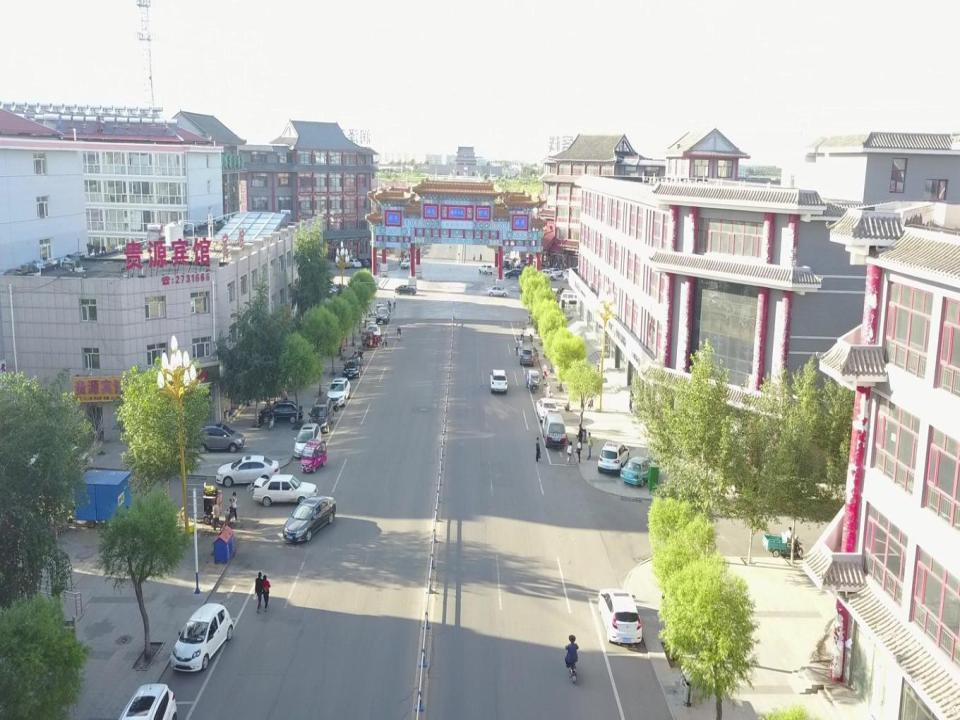car: (170, 602, 233, 672), (282, 495, 336, 543), (598, 588, 642, 644), (118, 681, 178, 720), (252, 472, 319, 506), (216, 454, 281, 487), (194, 420, 246, 452), (620, 456, 657, 488), (598, 440, 629, 476), (258, 400, 304, 424), (326, 375, 352, 406), (536, 397, 560, 422), (342, 355, 364, 378), (490, 367, 508, 394), (519, 345, 539, 366), (485, 286, 510, 298), (394, 284, 416, 296), (367, 324, 381, 342), (368, 304, 387, 317), (376, 307, 390, 324), (504, 268, 524, 279), (562, 273, 582, 284), (479, 263, 493, 275), (548, 267, 564, 277), (562, 267, 574, 278), (344, 258, 360, 266), (501, 260, 515, 269), (353, 257, 370, 264), (399, 258, 412, 267), (364, 258, 378, 266), (504, 253, 509, 261)
van: (541, 408, 567, 449), (293, 422, 321, 458), (308, 397, 334, 431), (560, 291, 584, 307), (540, 269, 558, 281)
